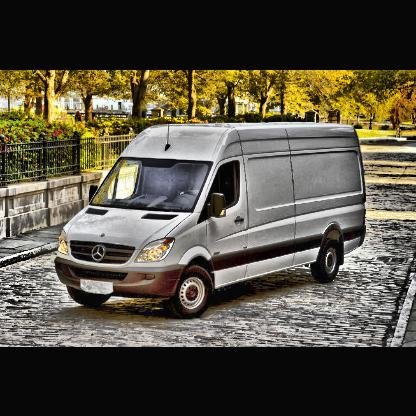Mercedes-Benz Sprinter Van 2012: (57, 125, 368, 319)
